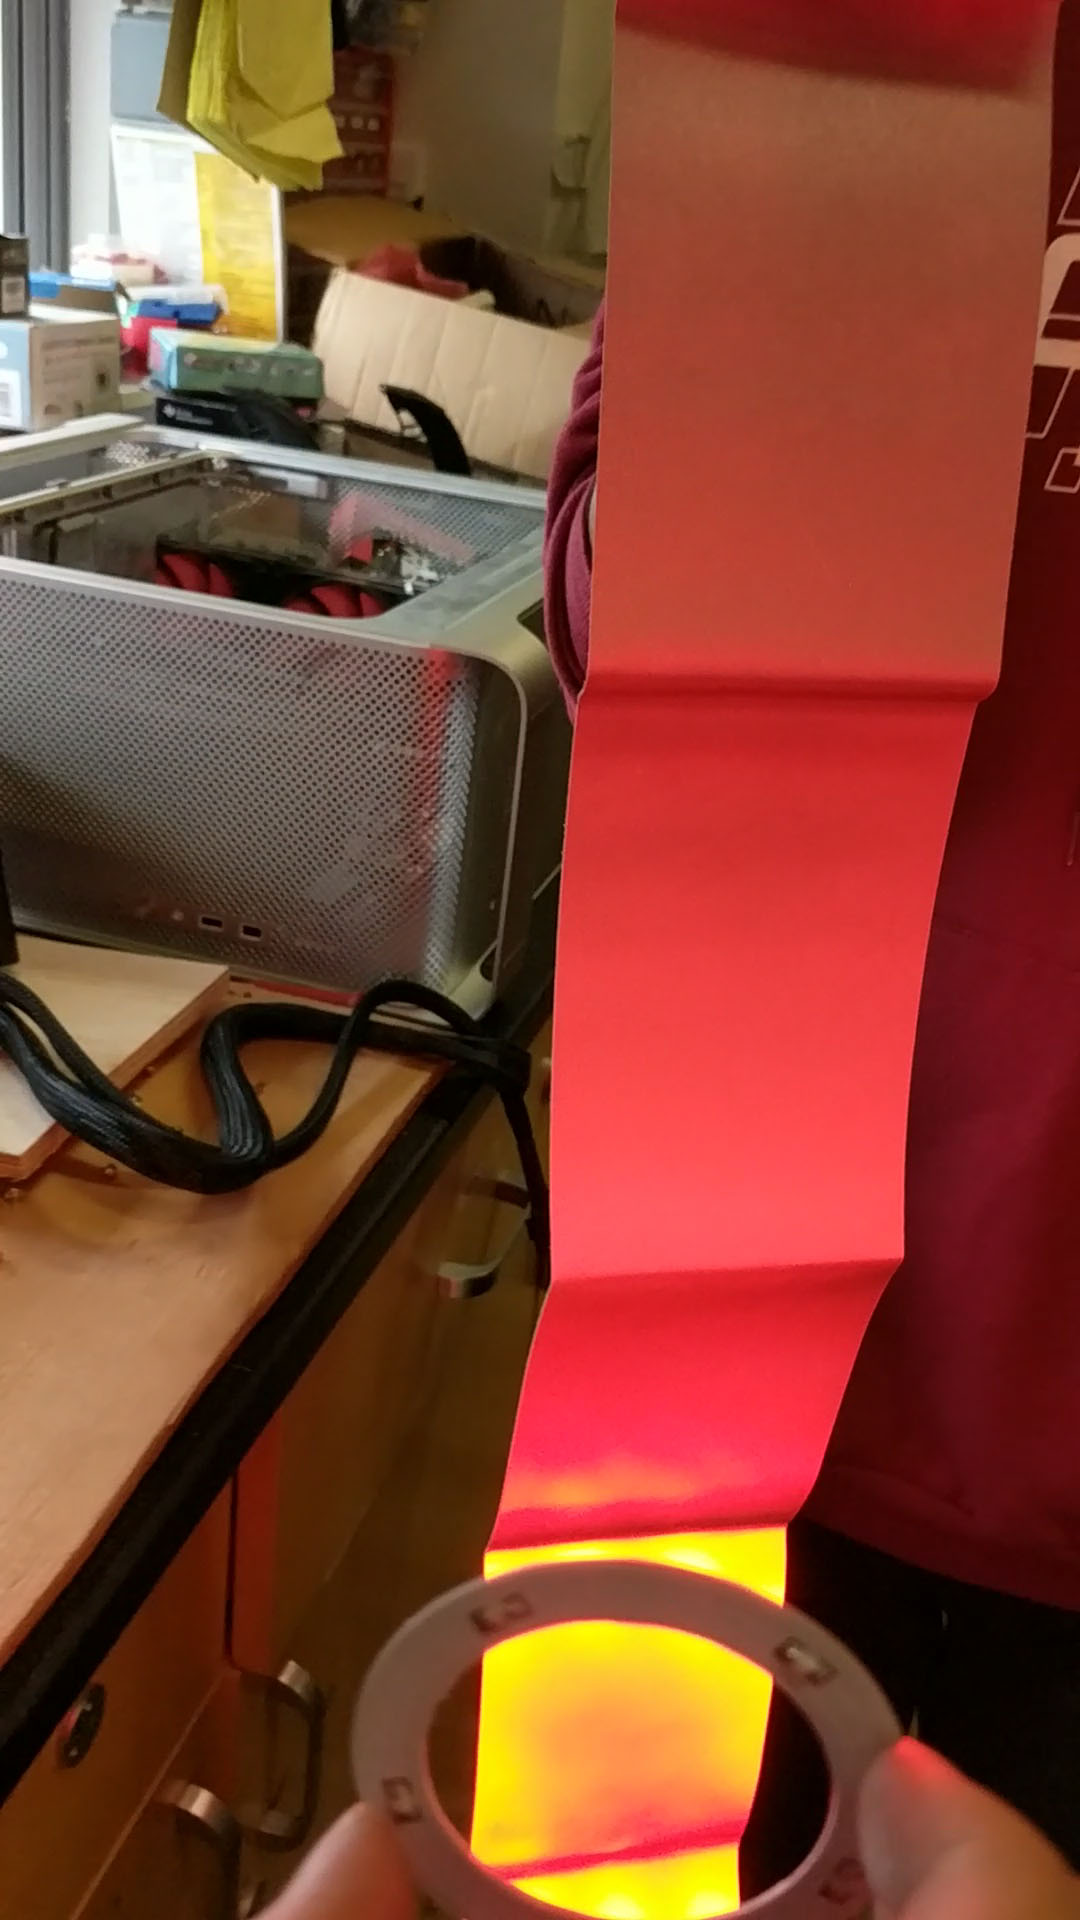gear: (468, 0, 1060, 1920)
